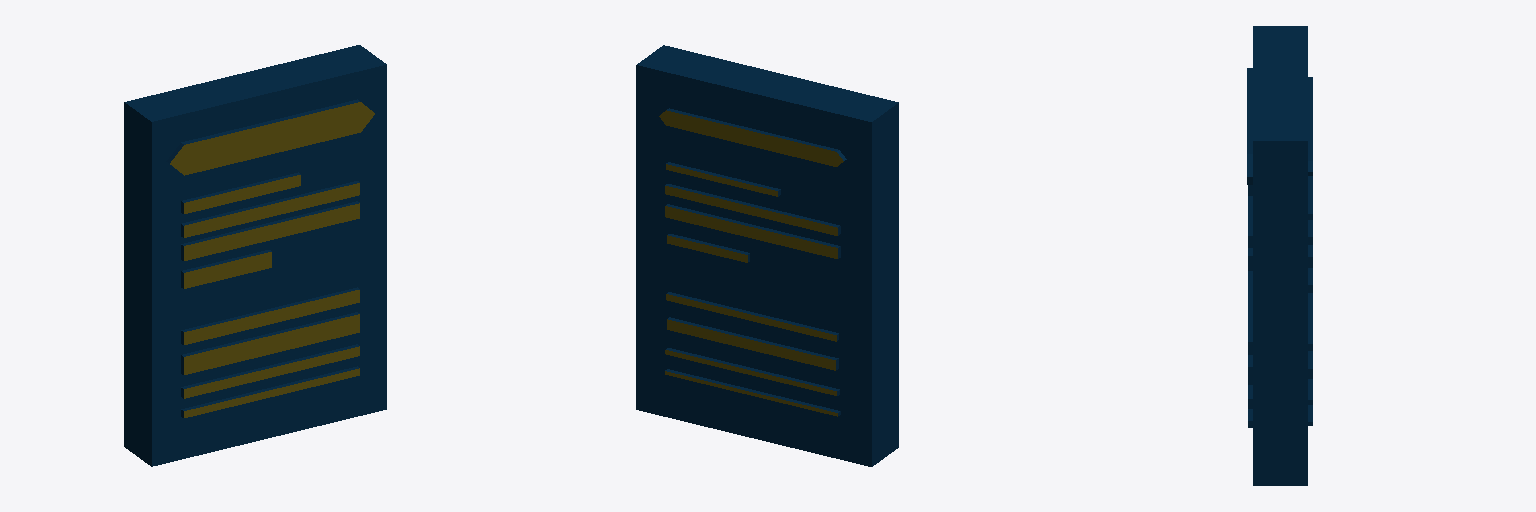
File: ItemDocs.obj
The picture shows the model from 3 angles: view 1: azimuth 30°, elevation 25°; view 2: azimuth 150°, elevation 25°; view 3: azimuth 270°, elevation 25°; orthographic projection.
Parts seen in each view (by area): view 1: Documento; view 2: Documento; view 3: Documento.
Boxes of the visible parts, <box> form: Documento: <box>124,45,386,466</box>; Documento: <box>636,45,898,466</box>; Documento: <box>1247,26,1312,485</box>.
Size of the model in its own units: 5 by 7 by 1.22.